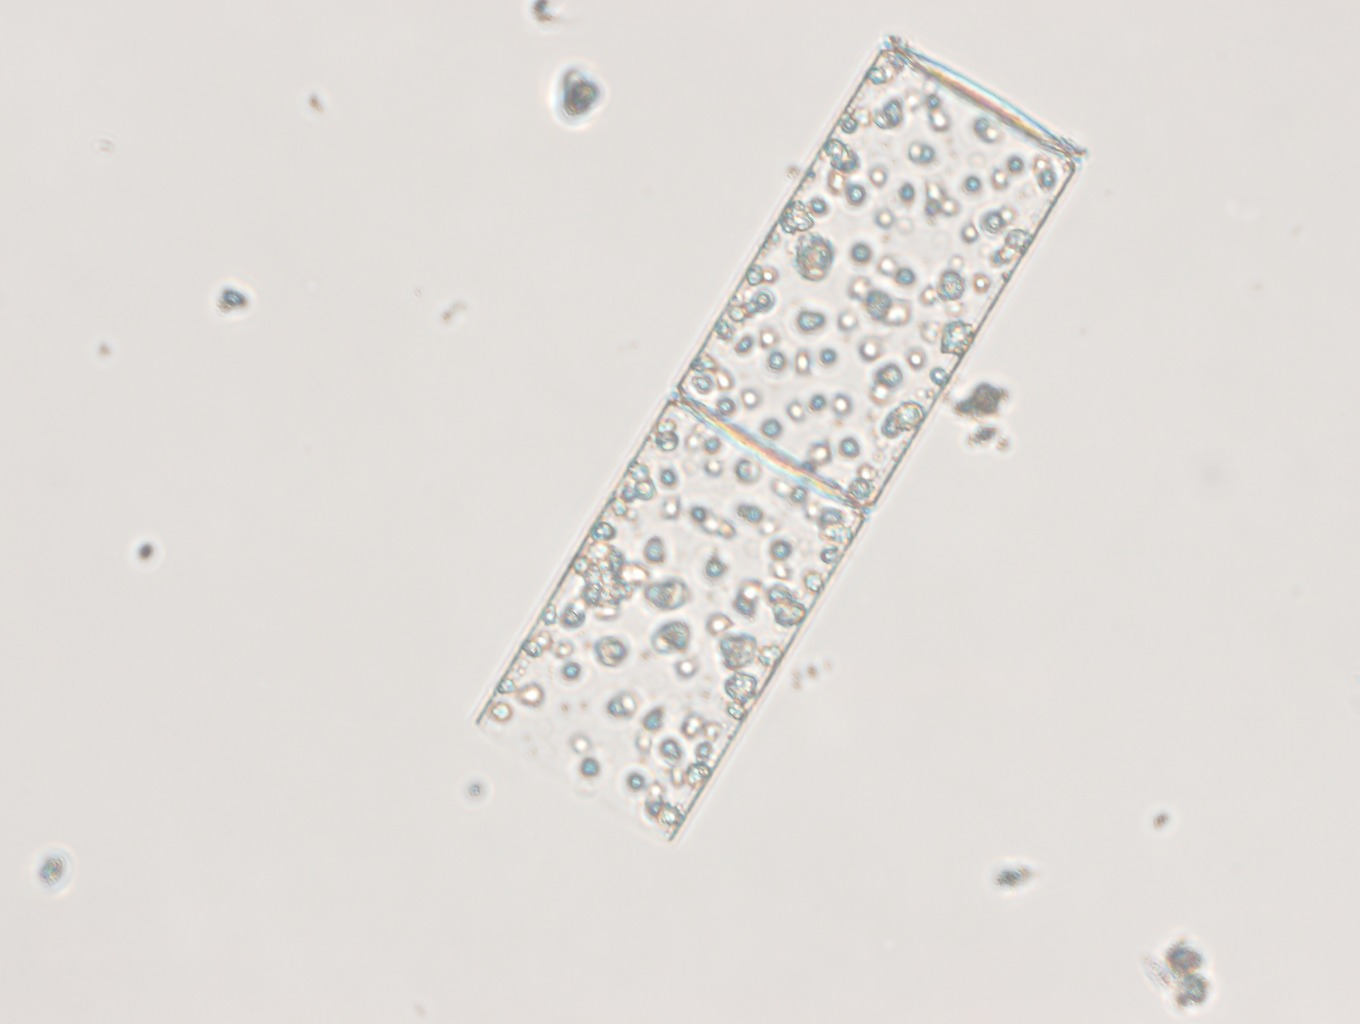guinardia flaccida: (472, 17, 1087, 858)
